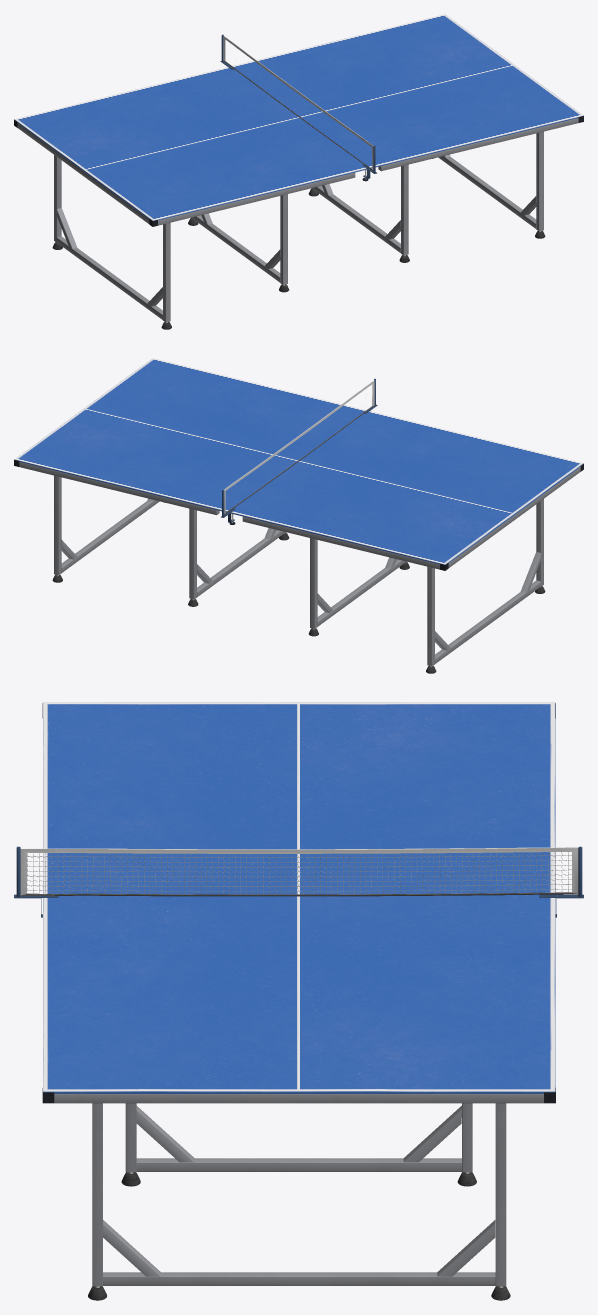
File: PingPongTable01.FBX
The picture shows the model from 3 angles, top to bottom: view 1: azimuth 30°, elevation 25°; view 2: azimuth 150°, elevation 25°; view 3: azimuth 270°, elevation 25°; orthographic projection. The views are drawn at different scales.
Parts seen in each view (by area): view 1: PingPongTable01; view 2: PingPongTable01; view 3: PingPongTable01.
Boxes of the visible parts, x1,y1,x2,y2 form: PingPongTable01: [14, 14, 583, 329]; PingPongTable01: [14, 358, 583, 673]; PingPongTable01: [14, 702, 583, 1300].
Bounding box in the file's own units: 274 × 92.16 × 170.
